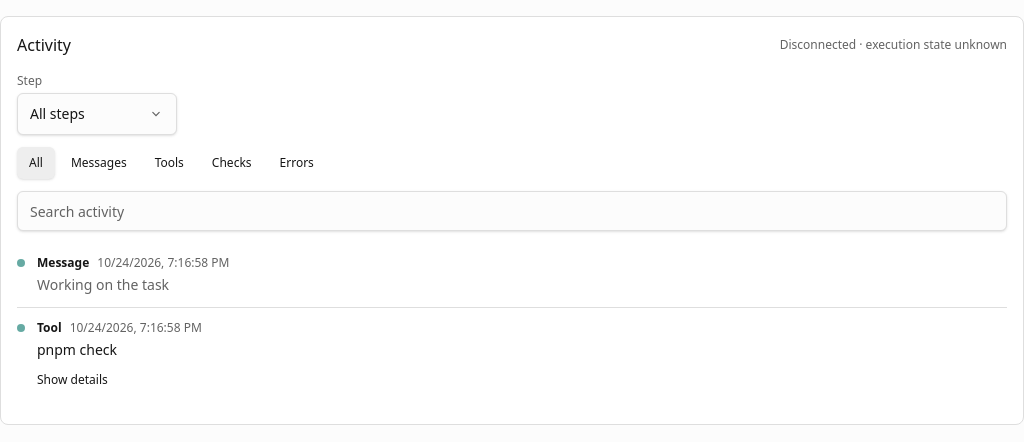
Test: filters actual attempt events, expands real tool output, and shows disconnected state
The image size is (1024, 442).
expect the text "Disconnected · execution state unknown" is shown: met, box [780, 37, 1007, 53]
Step 1. Click the button "Tools" → (169, 163), box [143, 147, 196, 179]
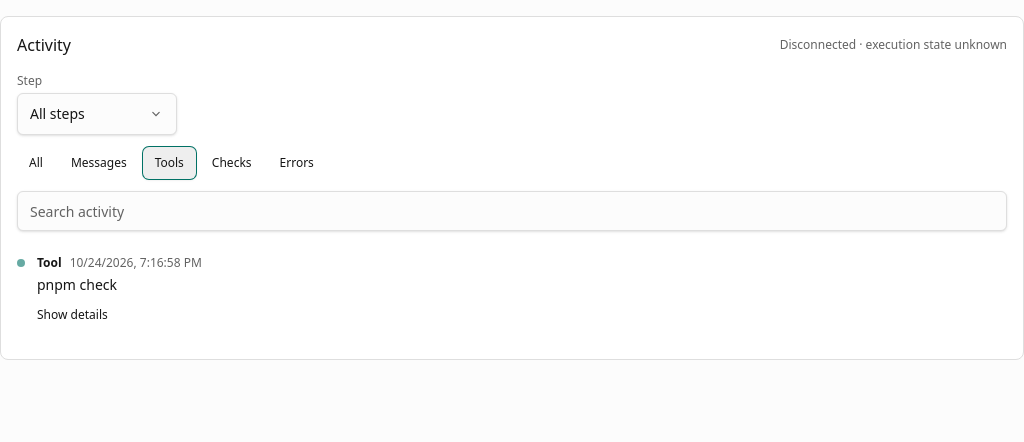
expect the text "pnpm check" is shown: met, box [37, 275, 117, 294]
expect the text "Working on the task" is gone: met
Step 2. Click the button "Show details" → (72, 315), box [37, 299, 108, 331]
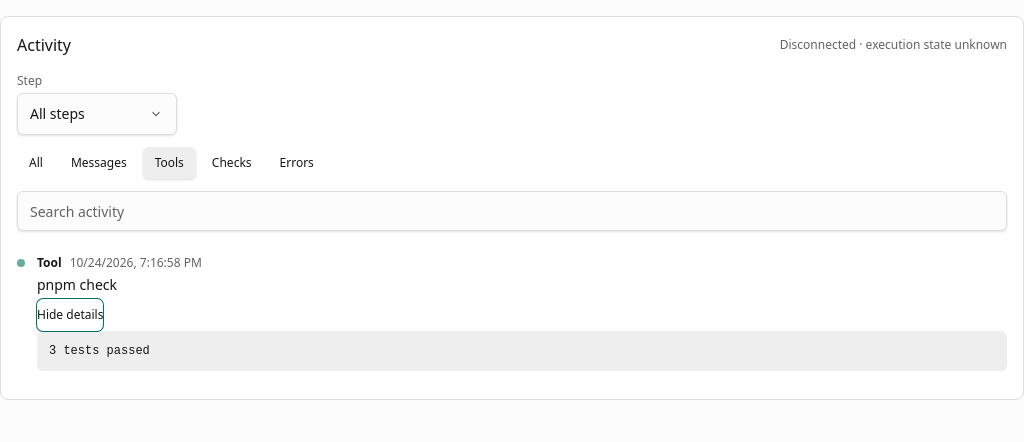
expect the text "3 tests passed" is shown: met, box [37, 331, 1007, 371]
Step 3. Type "other" into the field labelled "Search activity" → (512, 211), box [17, 191, 1007, 231]
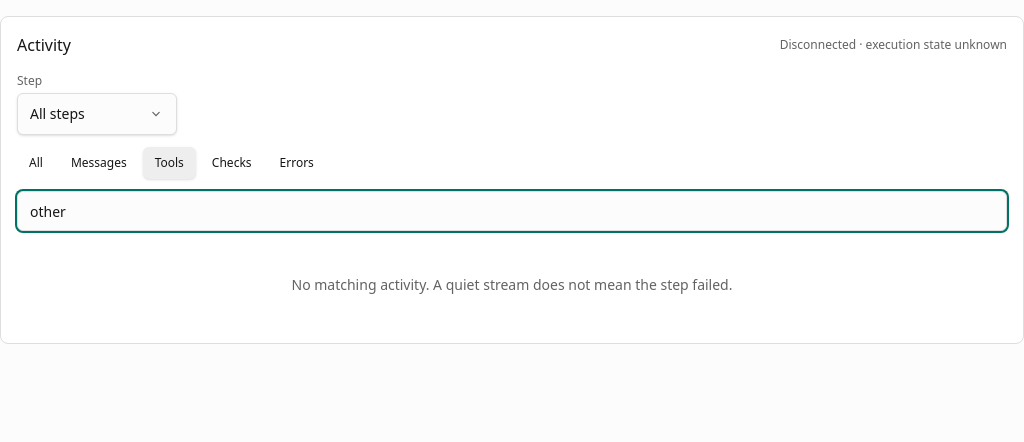
expect the text "No matching activity" is shown: met, box [292, 275, 732, 294]
